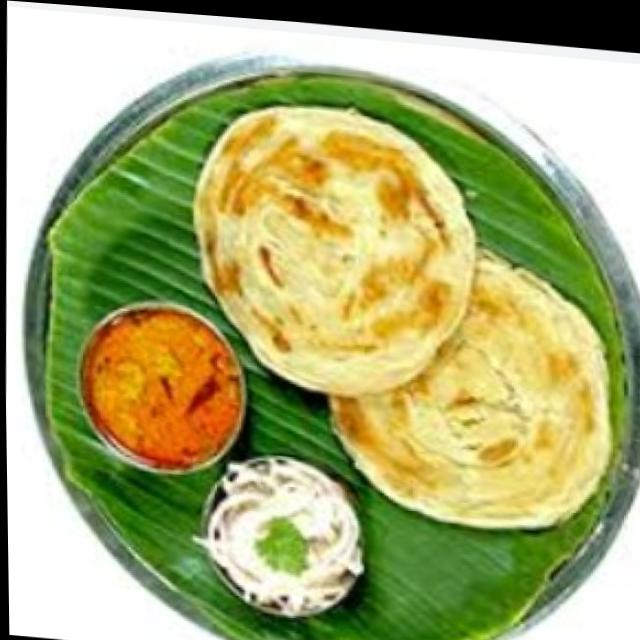CURD: (203, 457, 361, 618)
CURRY: (80, 306, 238, 467)
PAROTTA: (187, 99, 618, 534)
